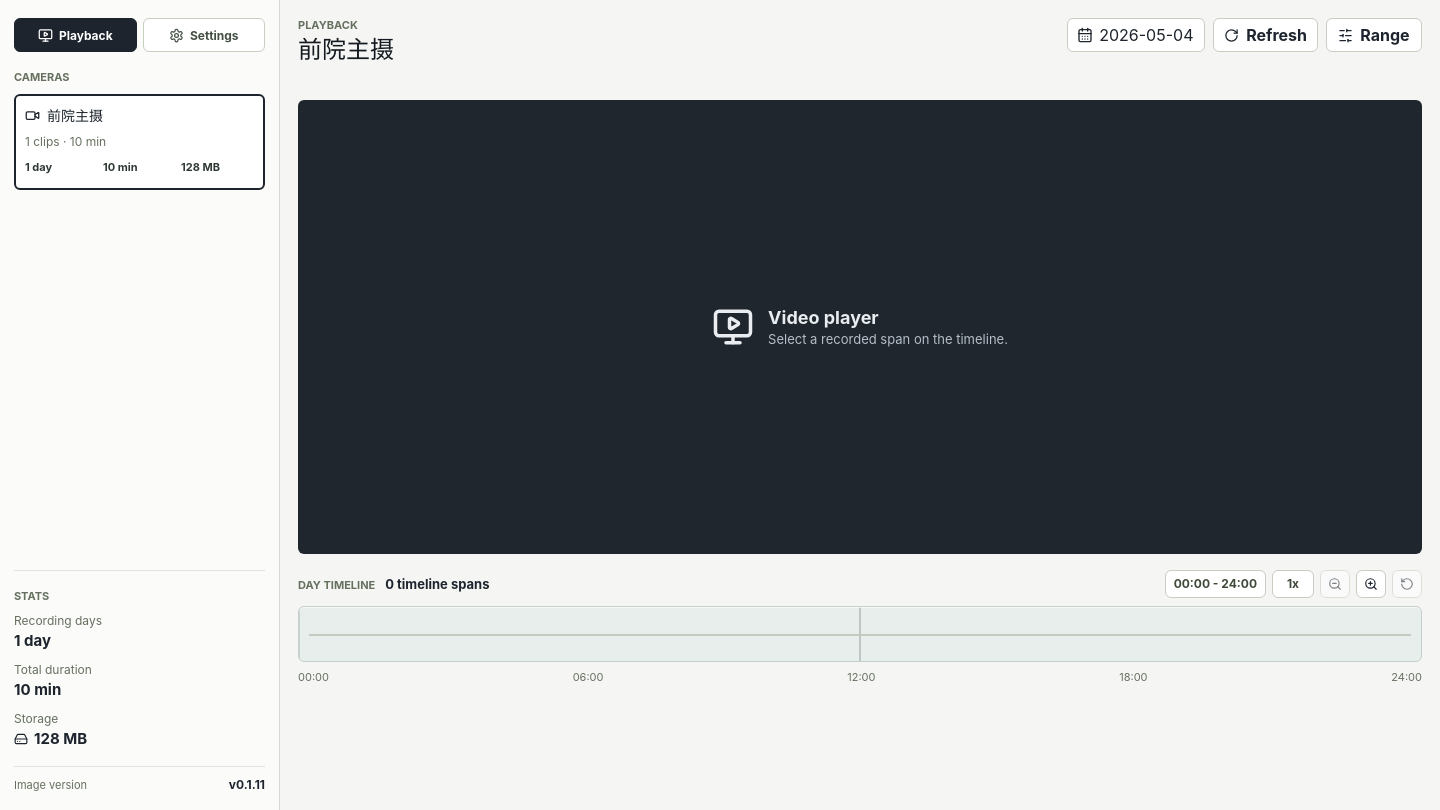
it: App › shows every mounted stream in settings and saves camera configuration globally
Expected: the button "前院主摄 1 clips · 10 min 1 day 10 min 128 MB" is shown, [14,94,265,190]
Expected: the button "侧院隐藏" is not shown
Click the button "Settings" at point(204, 35), box [142,18,265,52]
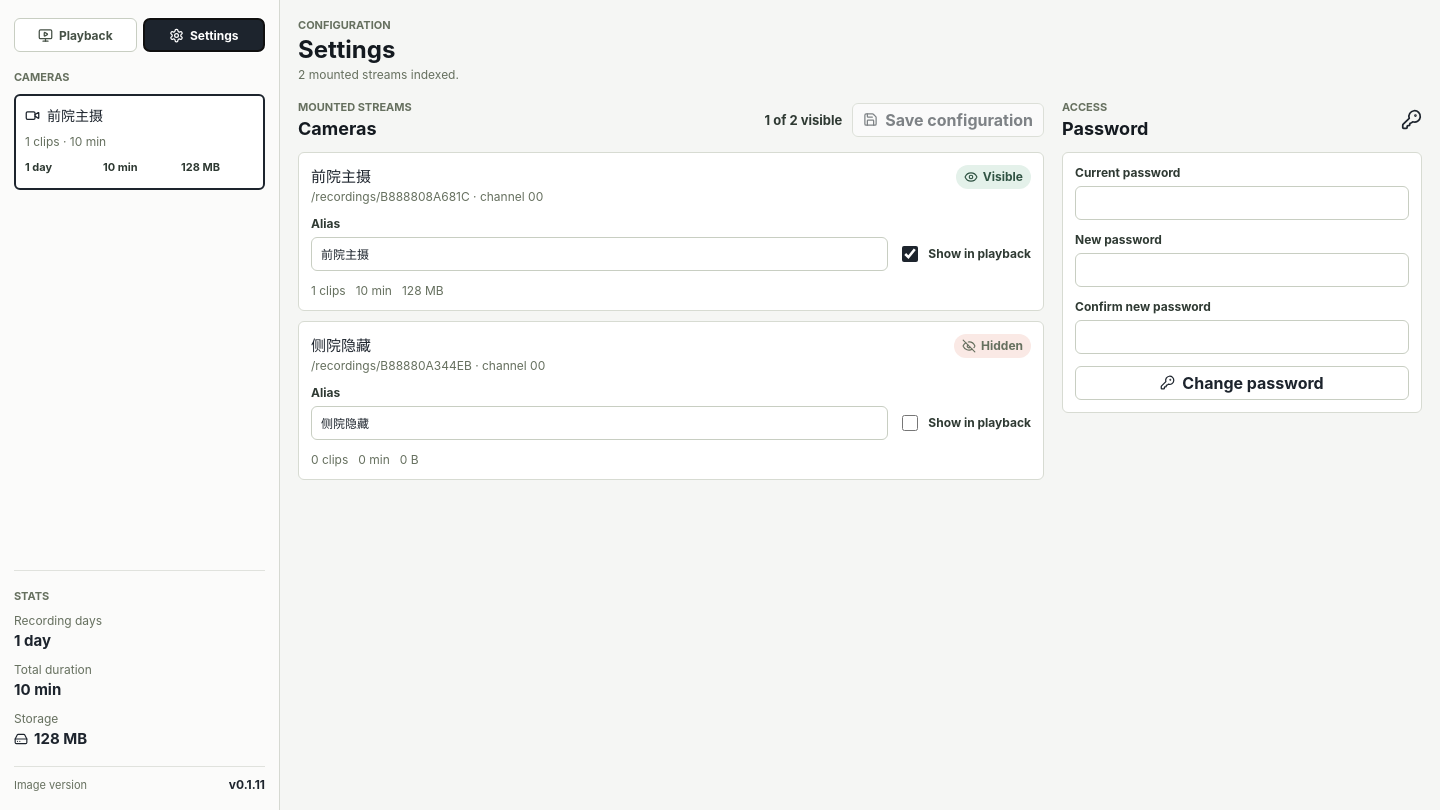
Now the heading "Settings" is shown, box [298,35,395,64]
Now the text "/recordings/B88880A344EB · channel 00" is shown, box [311,358,545,373]
Replace the text in the field labelled "Alias" below "/recordings/B888808A681C" with "车库入口" at point(600, 254), box [311,237,888,271]
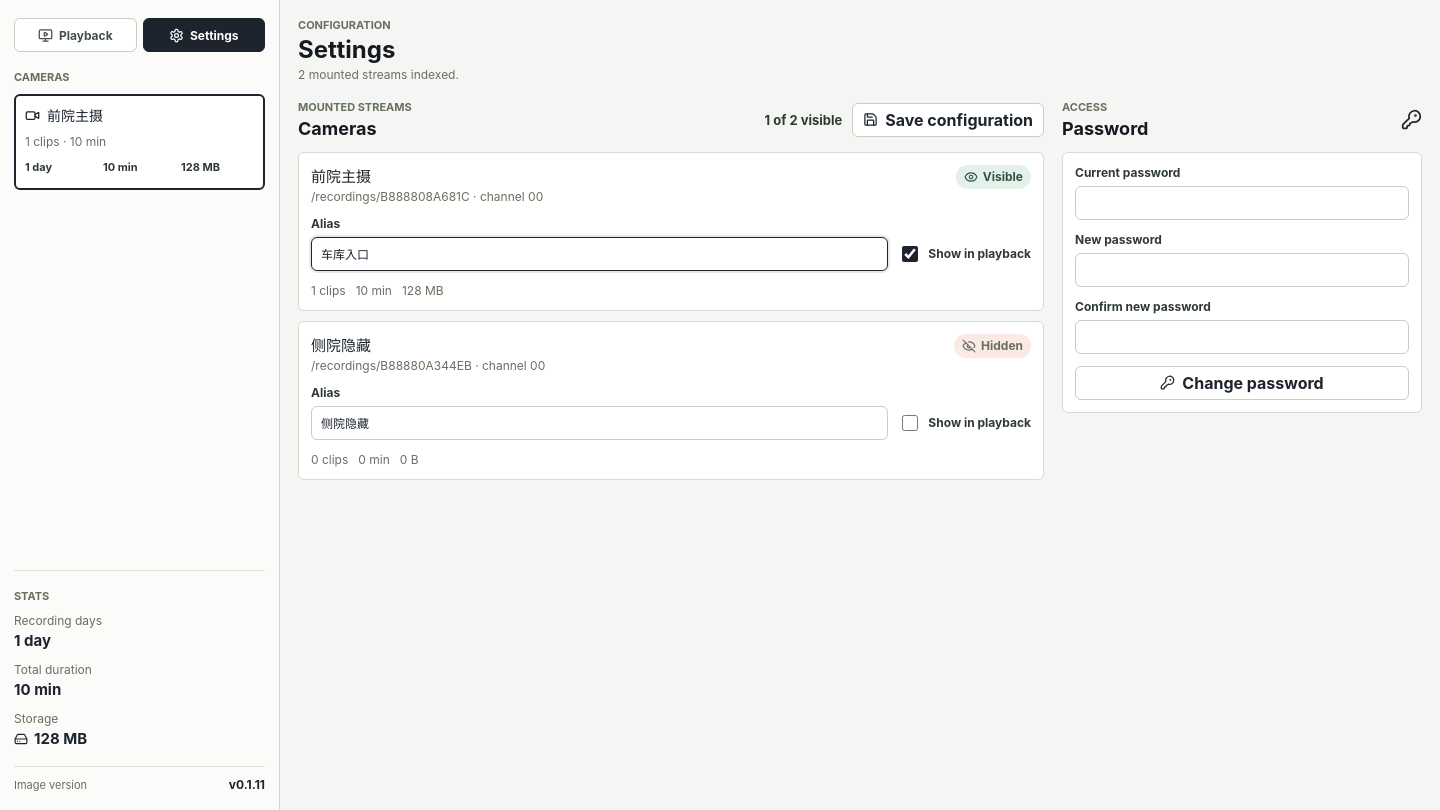
Click the 1st checkbox labelled "Show in playback" at point(910, 254), box [902,246,918,262]
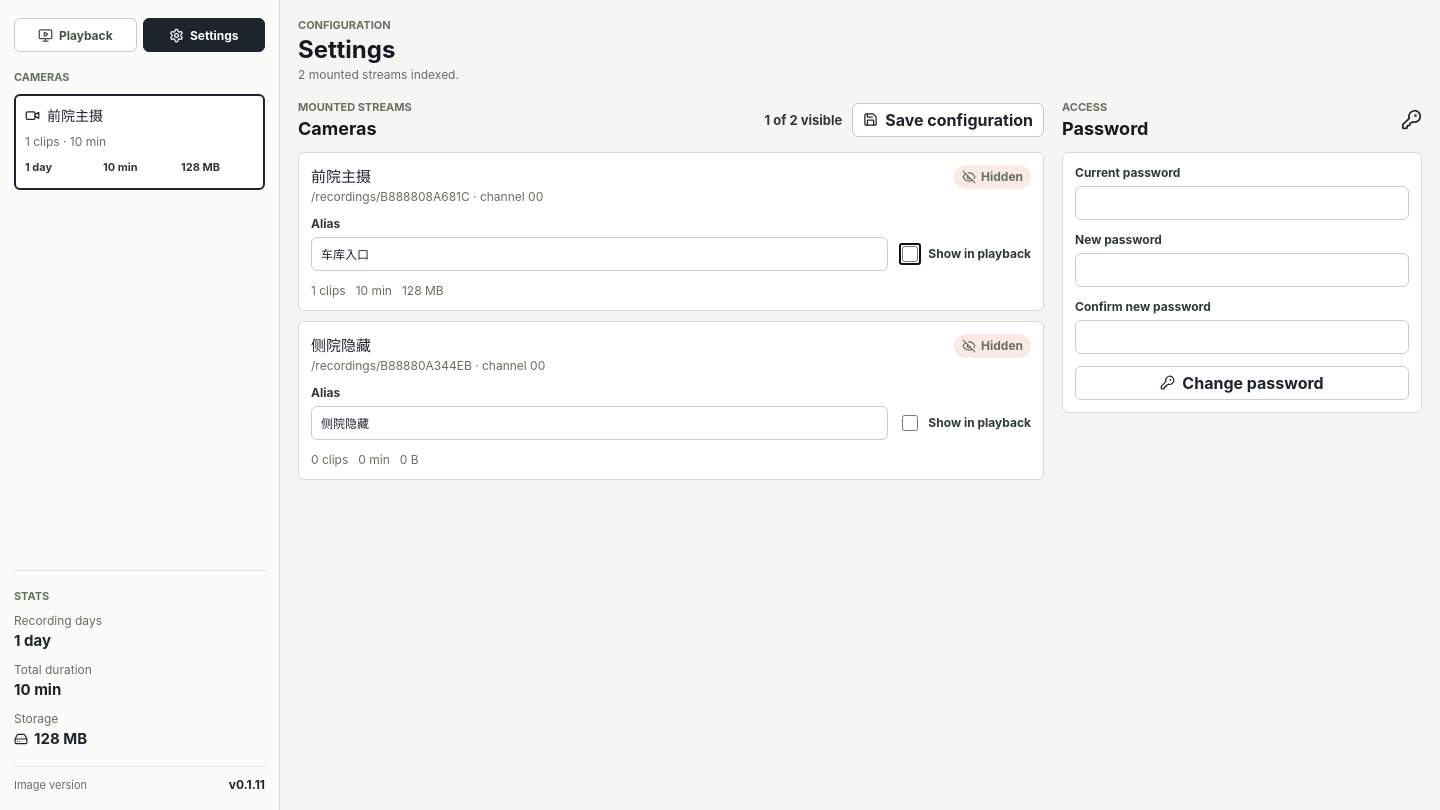
Replace the text in the field labelled "Alias" below "/recordings/B88880A344EB" with "侧院" at point(600, 423), box [311,406,888,440]
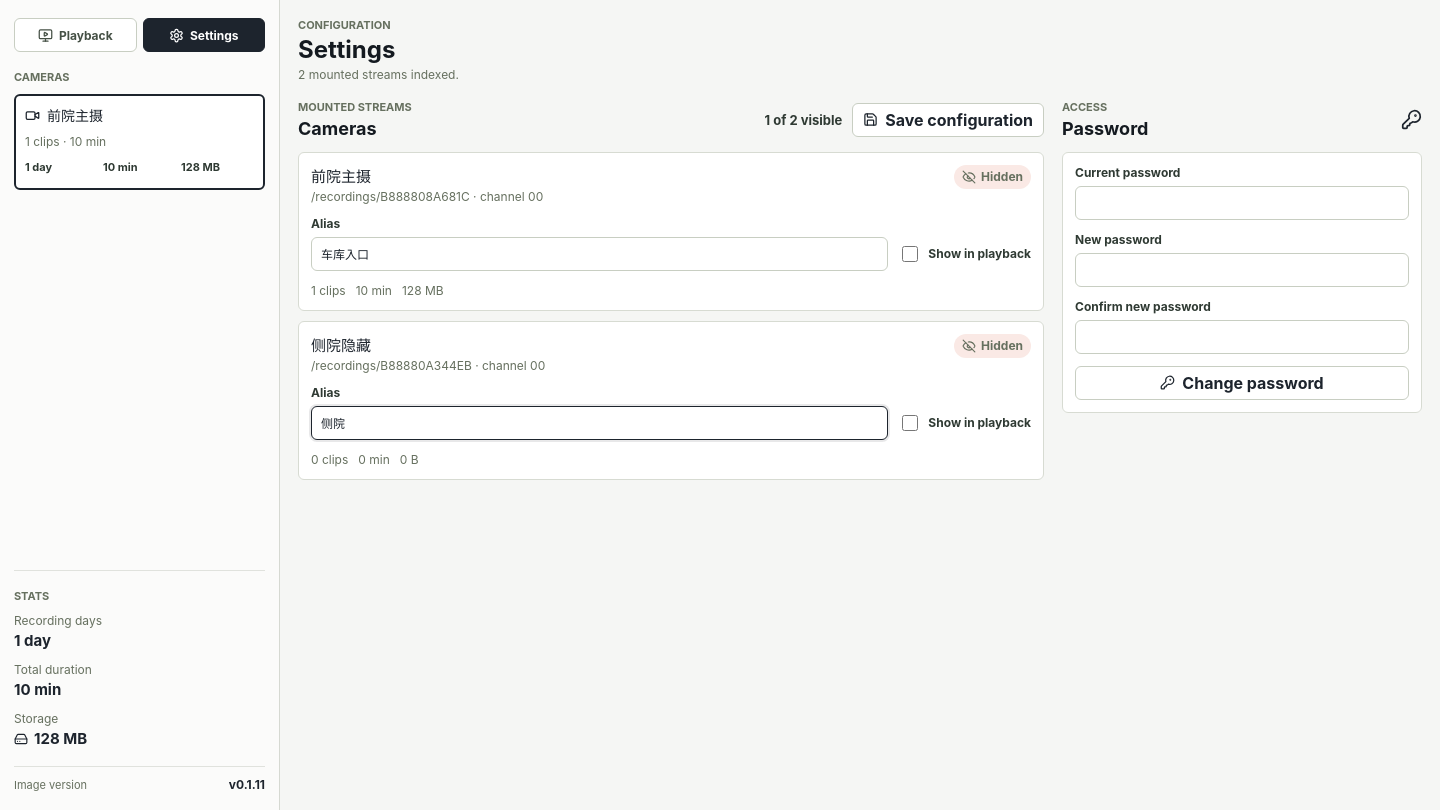
Click the button "Save configuration" at point(948, 120), box [852,103,1044,137]
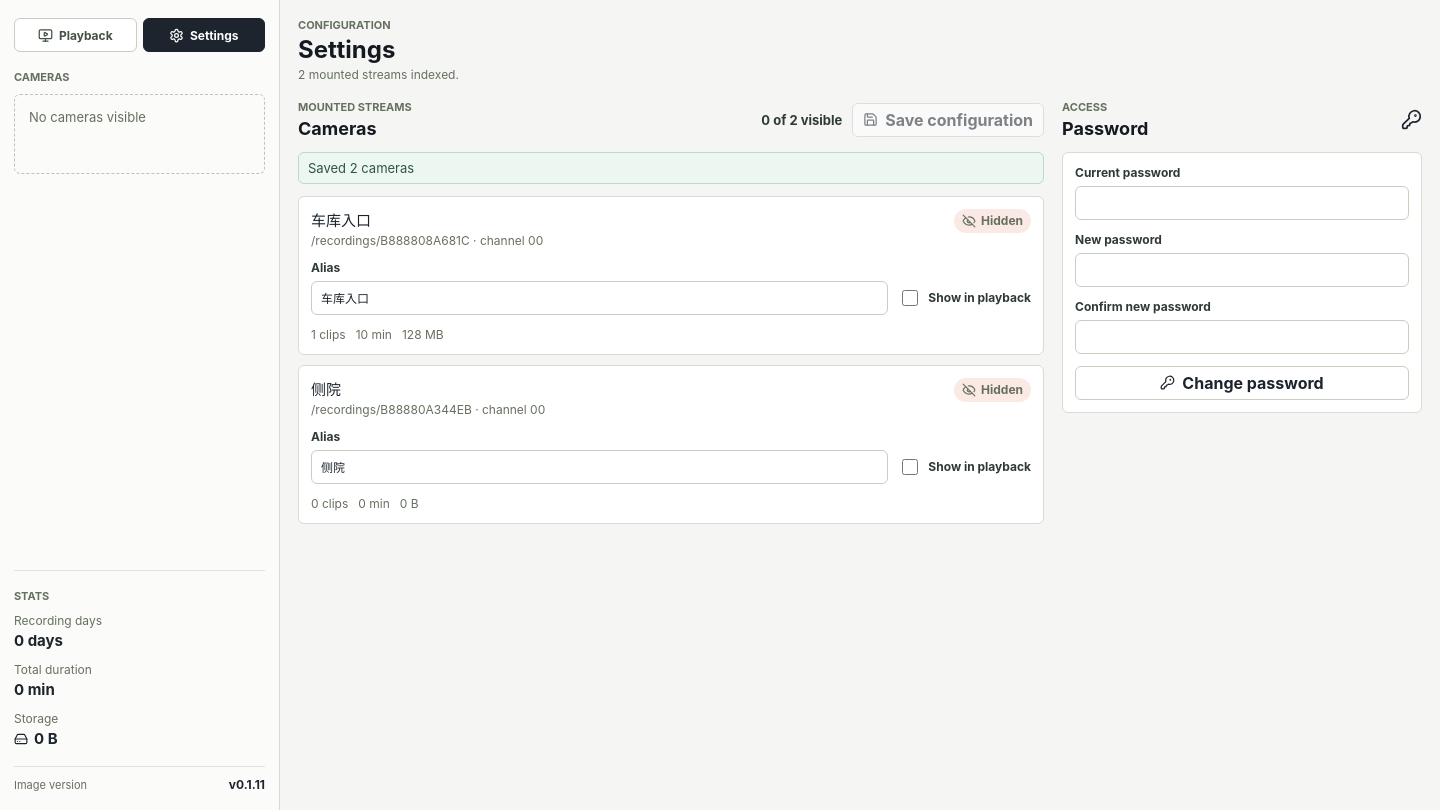
Now the text "Saved 2 cameras" is shown, box [298,152,1044,184]
Click the button "Playback" at point(75, 35), box [14,18,136,52]
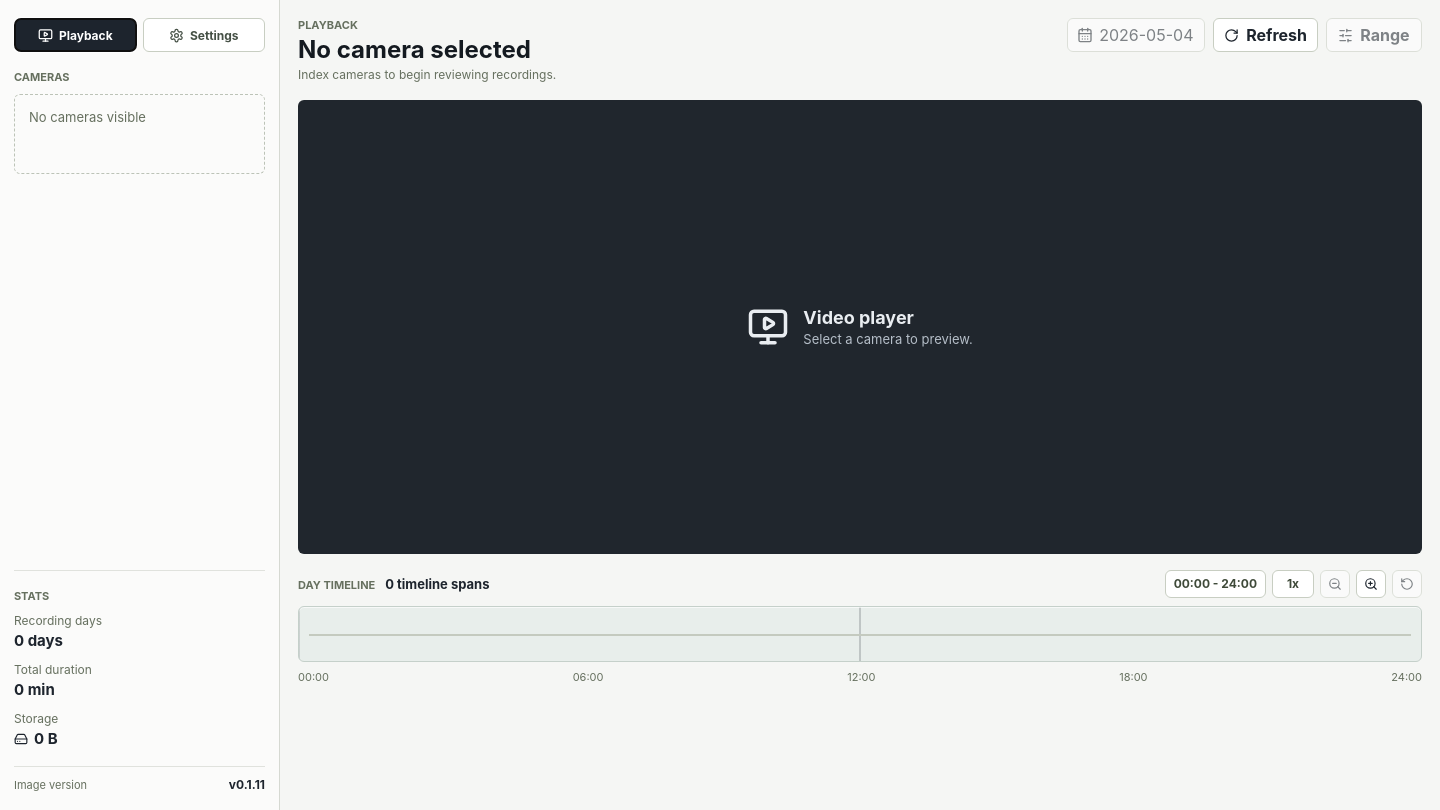
Now the text "车库入口" is gone
